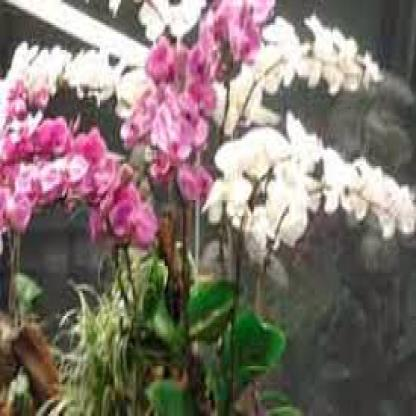ANGGREK: (14, 10, 402, 294)
